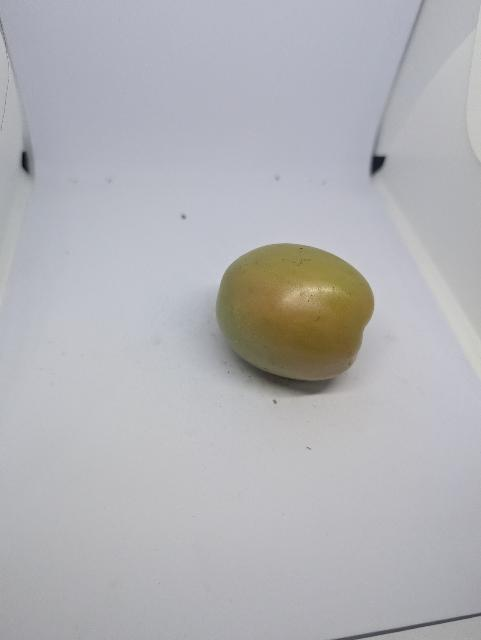breaker: (217, 243, 375, 381)
